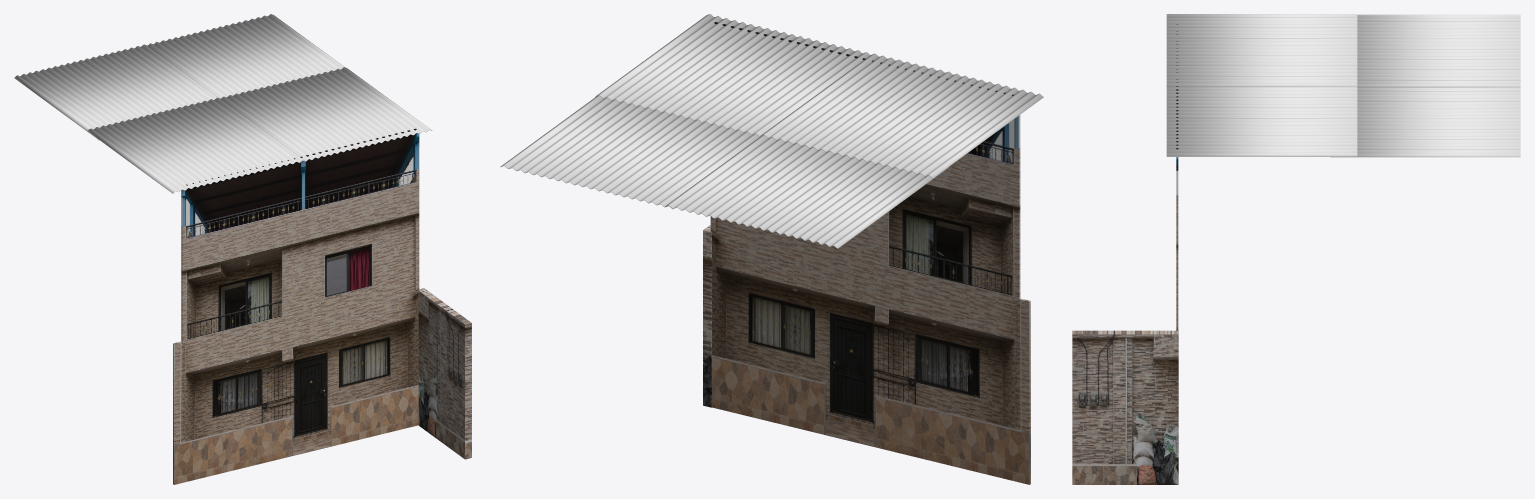
File: casaA_derecha_13.fbx
3 renders of one model, left to right at view 1: azimuth 30°, elevation 25°; view 2: azimuth 150°, elevation 25°; view 3: azimuth 270°, elevation 25°, orthographic. The views are drawn at different scales.
Parts seen in each view (by area): view 1: casaA_derecha_13.001, Techo_08.009, casaA_derecha_13B.001; view 2: casaA_derecha_13.001, Techo_08.009, casaA_derecha_13B.001; view 3: Techo_08.009, casaA_derecha_13B.001, casaA_derecha_13.001.
Part boxes in pixels (<box>): casaA_derecha_13.001: <box>173,128,419,484</box>; Techo_08.009: <box>14,14,432,193</box>; casaA_derecha_13B.001: <box>418,288,471,459</box>; casaA_derecha_13.001: <box>710,22,1030,484</box>; Techo_08.009: <box>500,14,1043,248</box>; casaA_derecha_13B.001: <box>703,225,711,407</box>; Techo_08.009: <box>1166,14,1520,157</box>; casaA_derecha_13B.001: <box>1072,330,1178,484</box>; casaA_derecha_13.001: <box>1176,24,1178,330</box>.
Size of the model in its own units: 979 by 1072 by 1311.
